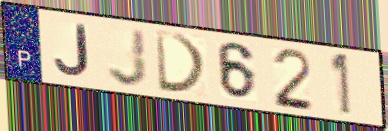1: (328, 51, 354, 120)
2: (270, 47, 314, 113)
6: (215, 40, 259, 102)
D: (152, 29, 210, 96)
J: (105, 26, 150, 89), (52, 22, 92, 79)
